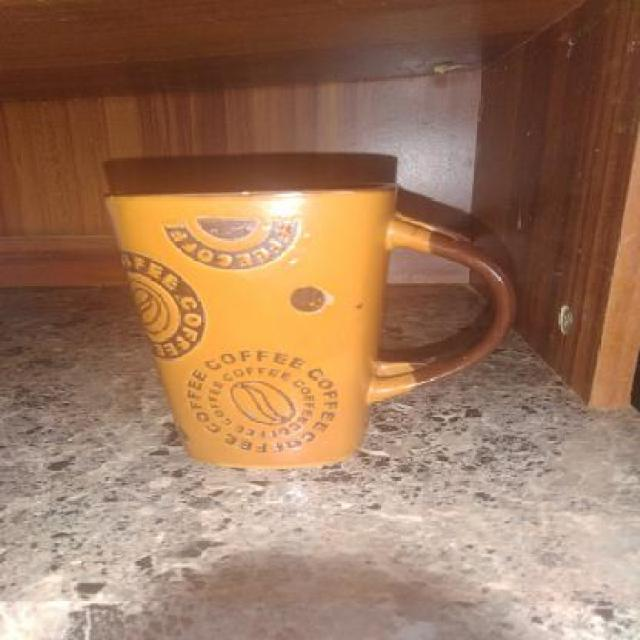cup: (95, 182, 528, 480)
